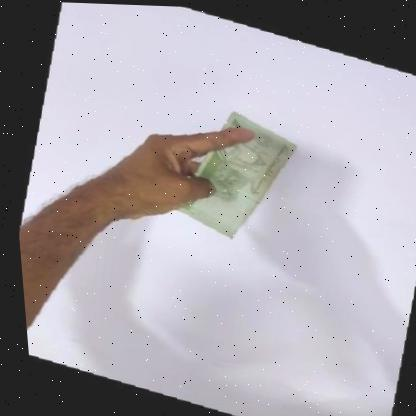fifty-back-vef: (160, 97, 305, 249)
